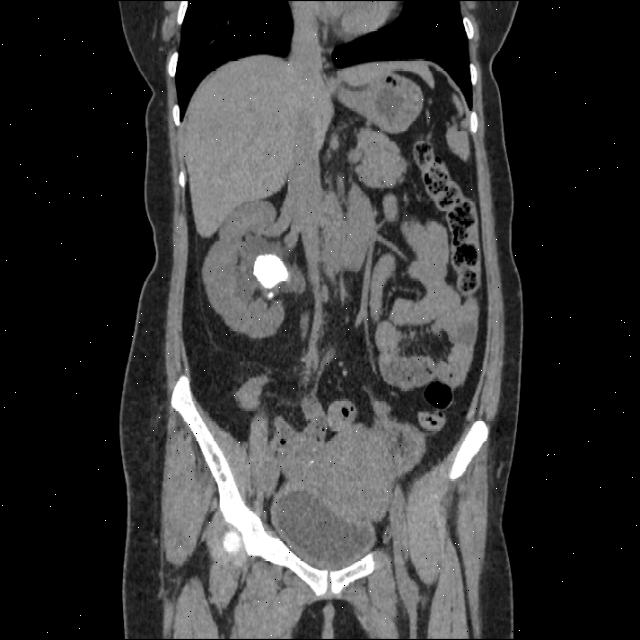kidneystone: (254, 255, 289, 289)
